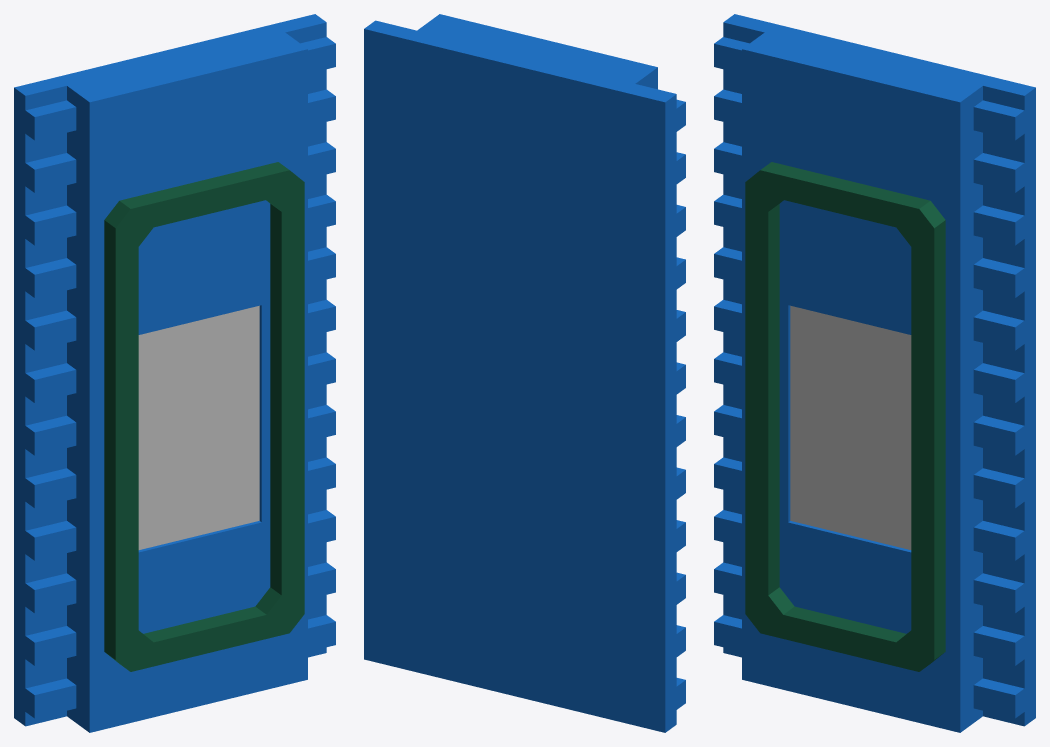
The model's file is T_wooden_wall8.fbx.
3 views of the same model, side by side, from view 1: azimuth 30°, elevation 25°; view 2: azimuth 150°, elevation 25°; view 3: azimuth 330°, elevation 25° (orthographic).
Visible parts, largest first — view 1: wooden_wall8; view 2: wooden_wall8; view 3: wooden_wall8.
Part boxes in pixels (box(x1,y1,x2,y2)): wooden_wall8: box(14, 14, 335, 732); wooden_wall8: box(364, 14, 685, 732); wooden_wall8: box(714, 14, 1035, 732).
Bounding box in the file's own units: 150 × 300 × 39.28.
